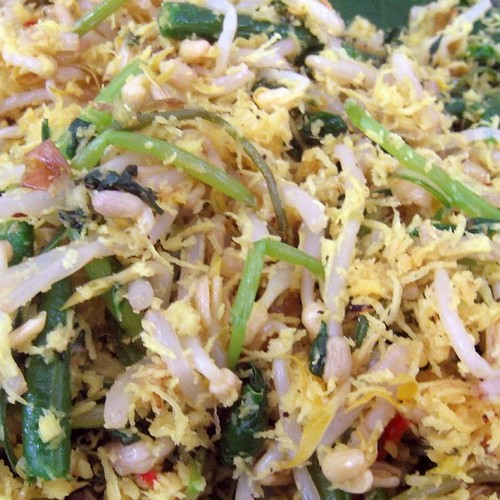jukut urap: (15, 23, 483, 494)
